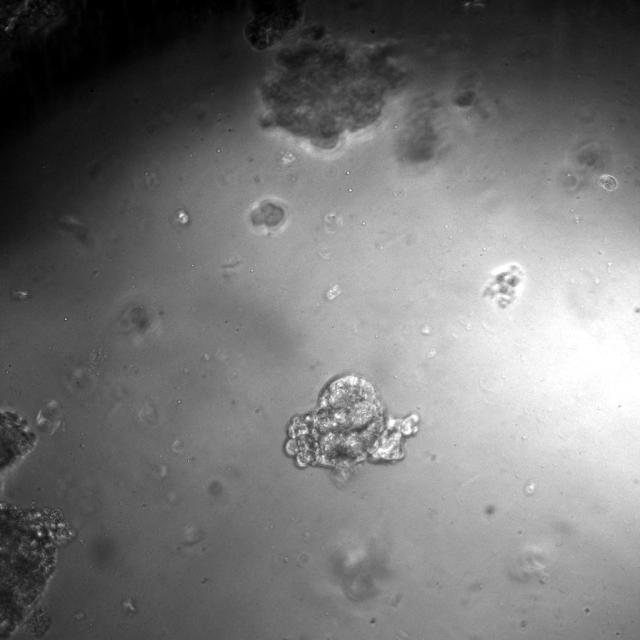organoid: (261, 24, 404, 148), (284, 374, 419, 479), (0, 501, 74, 639), (244, 0, 301, 49), (0, 410, 36, 472), (0, 411, 36, 472), (482, 263, 524, 308), (245, 197, 289, 234)
